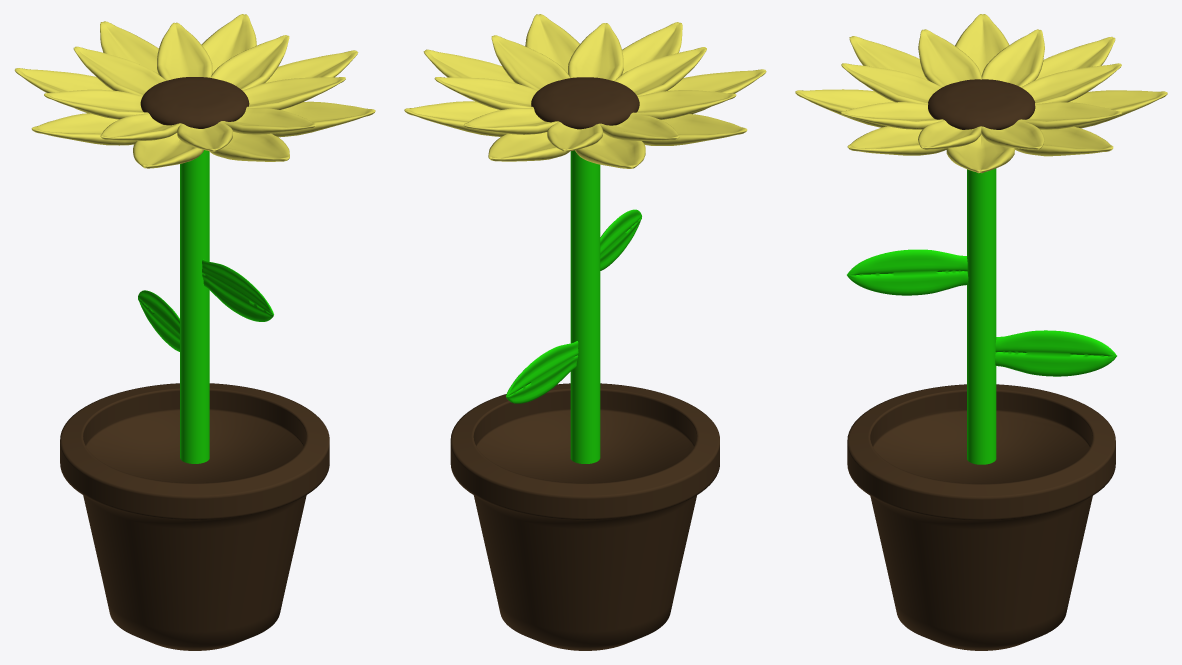
The model's file is SonenBlumne1.fbx.
3 views of the same model, side by side, from view 1: azimuth 30°, elevation 25°; view 2: azimuth 150°, elevation 25°; view 3: azimuth 270°, elevation 25° (orthographic).
Visible parts, largest first — view 1: Topf, Zylinder, Würfel.001, Blatt.012, Blatt.010, Blatt.008, Blatt.013, Blatt.006, Blatt.005, Blatt.014, Blatt.016, Blatt.004 (+8 smaller); view 2: Topf, Zylinder, Würfel, Blatt.015, Blatt.013, Blatt.001, Blatt.010, Blatt.003, Blatt.005, Blatt.009, Blatt.004, Blatt.014 (+8 smaller); view 3: Topf, Zylinder, Würfel, Würfel.001, Blatt.003, Blatt.006, Blatt.001, Blatt.008, Blatt.015, Blatt.012, Blatt.014, Blatt.004 (+8 smaller).
Boxes of the visible parts, x1,y1,x2,y2 form: Topf: (60, 383, 329, 650); Zylinder: (140, 77, 249, 463); Würfel.001: (202, 259, 273, 321); Blatt.012: (157, 22, 212, 80); Blatt.010: (210, 35, 289, 89); Blatt.008: (73, 46, 165, 95); Blatt.013: (242, 77, 345, 109); Blatt.006: (44, 89, 147, 119); Blatt.005: (31, 113, 136, 145); Blatt.014: (272, 101, 375, 137); Blatt.016: (209, 132, 289, 161); Blatt.004: (201, 14, 256, 73); Topf: (450, 383, 719, 650); Zylinder: (531, 77, 639, 463); Würfel: (506, 341, 578, 403); Blatt.015: (568, 23, 623, 80); Blatt.013: (491, 35, 569, 90); Blatt.001: (614, 47, 706, 95); Blatt.010: (434, 77, 538, 109); Blatt.003: (632, 90, 736, 119); Blatt.005: (642, 114, 747, 145); Blatt.009: (488, 132, 569, 161); Blatt.004: (404, 101, 506, 136); Blatt.014: (525, 14, 579, 73); Topf: (847, 384, 1115, 650); Zylinder: (928, 79, 1035, 464); Würfel: (995, 330, 1116, 376); Würfel.001: (847, 249, 968, 295); Blatt.003: (918, 29, 981, 87); Blatt.006: (981, 29, 1044, 87); Blatt.001: (841, 63, 941, 103); Blatt.008: (1021, 63, 1121, 103); Blatt.015: (841, 102, 943, 129); Blatt.012: (1019, 102, 1121, 129); Blatt.014: (847, 126, 946, 155); Blatt.004: (1014, 126, 1113, 156).
Size of the model in its own units: 419 by 668 by 419.
